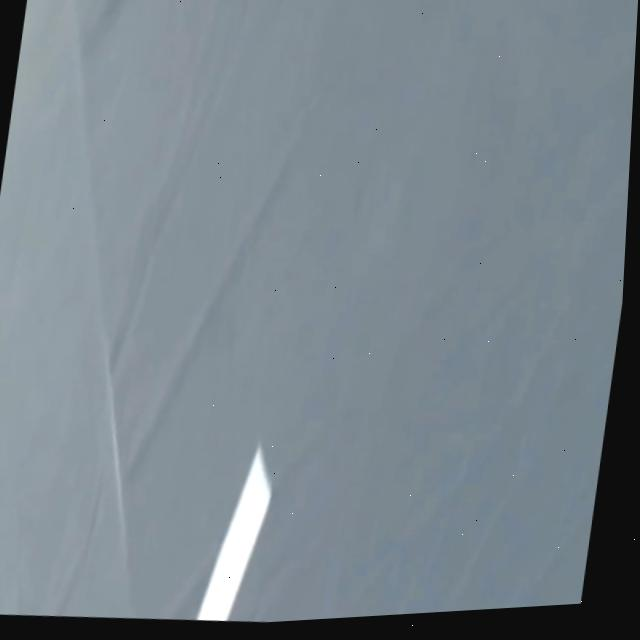center: (197, 446, 271, 621)
